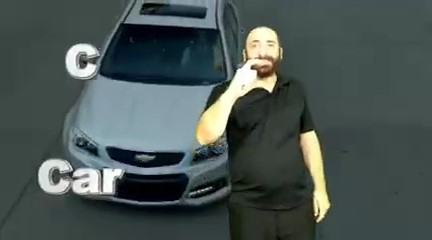C: (235, 58, 267, 96)
